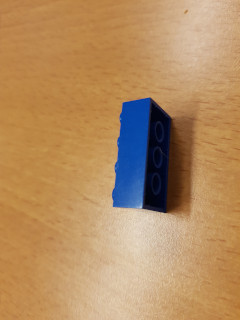2x4 blue: (111, 96, 173, 213)
